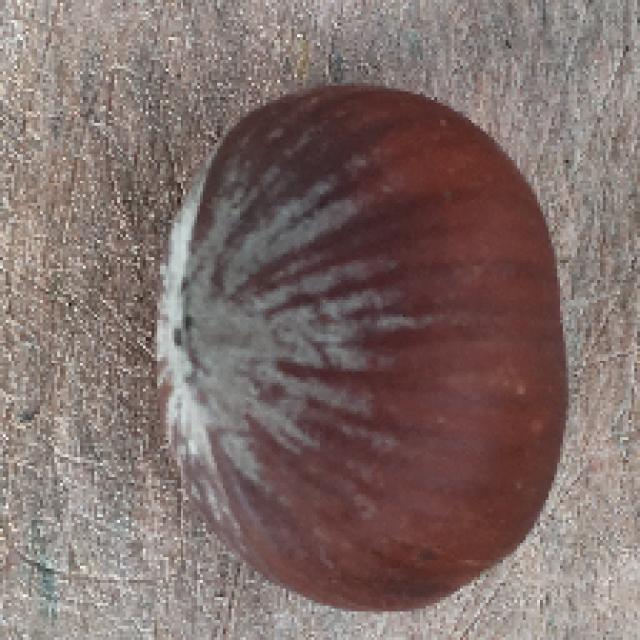damagedHazelnut: (154, 77, 563, 612)
